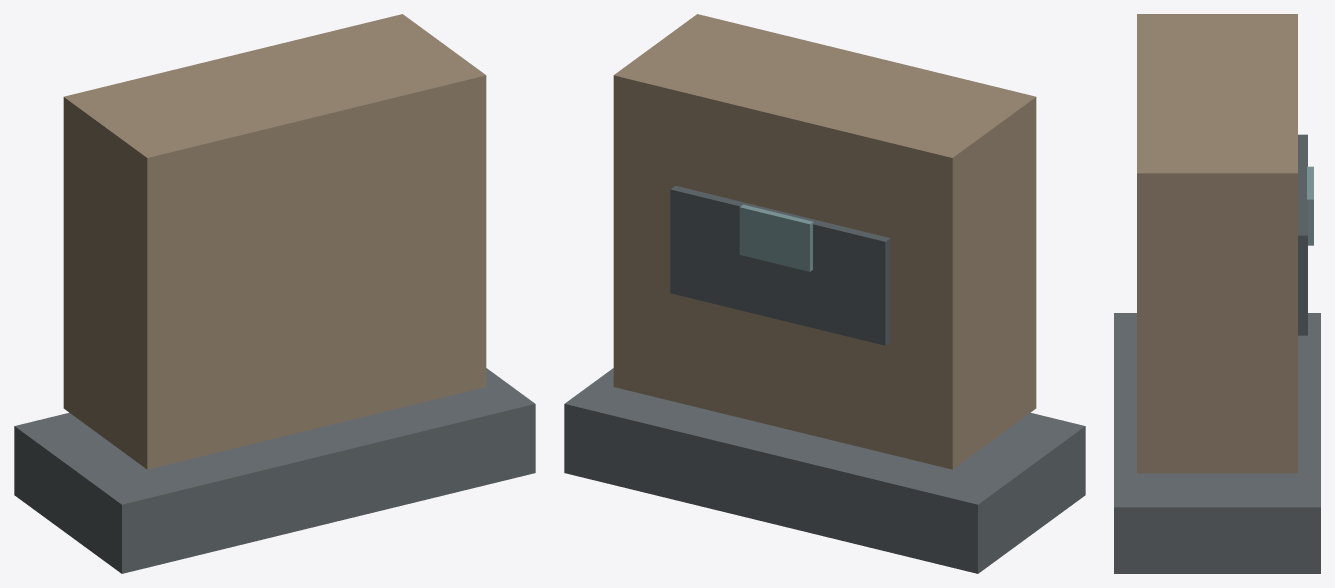
The model's file is iz3_health_morg_02.glb.
3 views of the same model, side by side, from view 1: azimuth 30°, elevation 25°; view 2: azimuth 150°, elevation 25°; view 3: azimuth 270°, elevation 25° (orthographic). The views are drawn at different scales.
Parts seen in each view (by area): view 1: cabinet, base; view 2: cabinet, base, panel, display; view 3: cabinet, base, panel, display.
Boxes of the visible parts, box(x1,y1,x2,y2) form: cabinet: box(63, 14, 486, 469); base: box(14, 368, 535, 573); cabinet: box(613, 14, 1036, 469); base: box(564, 368, 1085, 573); panel: box(670, 185, 890, 345); display: box(739, 204, 813, 271); cabinet: box(1137, 14, 1297, 473); base: box(1114, 313, 1320, 573); panel: box(1298, 134, 1307, 335); display: box(1307, 166, 1313, 245).
Bounding box in the file's own units: 2 × 1.84 × 0.9.
